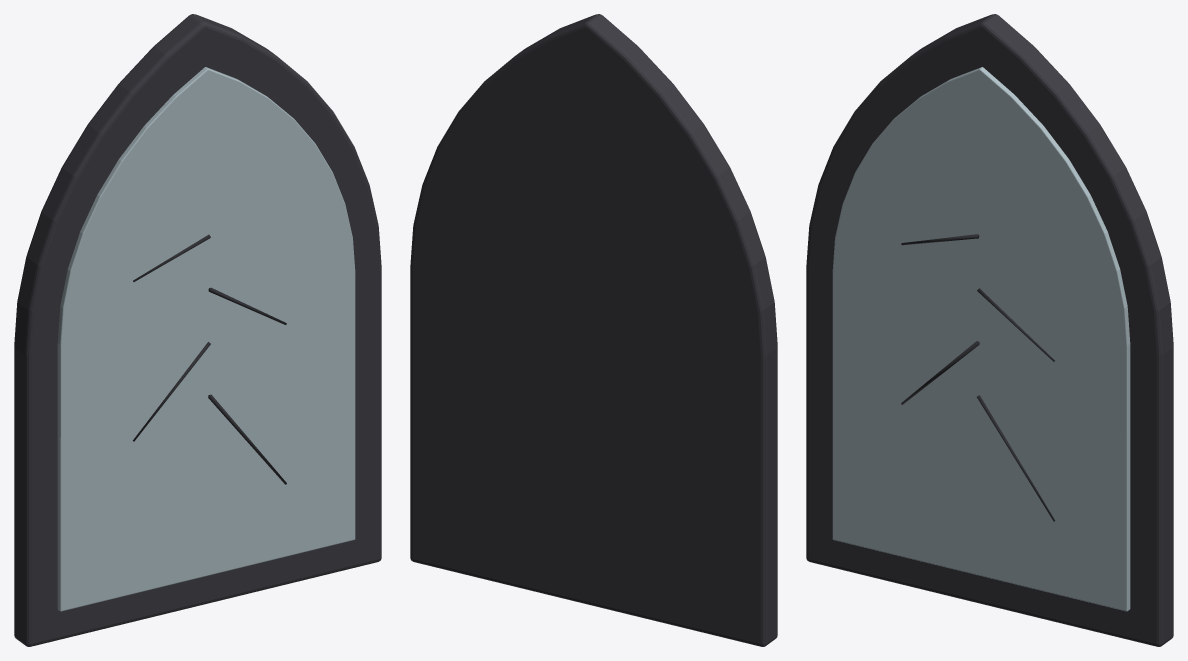
The model's file is mirror_cracked.glb.
The picture shows the model from 3 angles, left to right: view 1: azimuth 30°, elevation 25°; view 2: azimuth 150°, elevation 25°; view 3: azimuth 330°, elevation 25°; orthographic projection.
Parts seen in each view (by area): view 1: GD_mirror_cracked__m1, GD_mirror_cracked__m0, GD_mirror_cracked__m2; view 2: GD_mirror_cracked__m0; view 3: GD_mirror_cracked__m1, GD_mirror_cracked__m0, GD_mirror_cracked__m2.
Boxes of the visible parts, <box> form: GD_mirror_cracked__m1: <box>57,67,355,611</box>; GD_mirror_cracked__m0: <box>14,14,381,646</box>; GD_mirror_cracked__m2: <box>133,234,286,484</box>; GD_mirror_cracked__m0: <box>410,14,777,646</box>; GD_mirror_cracked__m1: <box>832,67,1130,611</box>; GD_mirror_cracked__m0: <box>806,14,1173,646</box>; GD_mirror_cracked__m2: <box>901,234,1055,521</box>.
Size of the model in its own units: 0.7 by 1.09 by 0.069.
